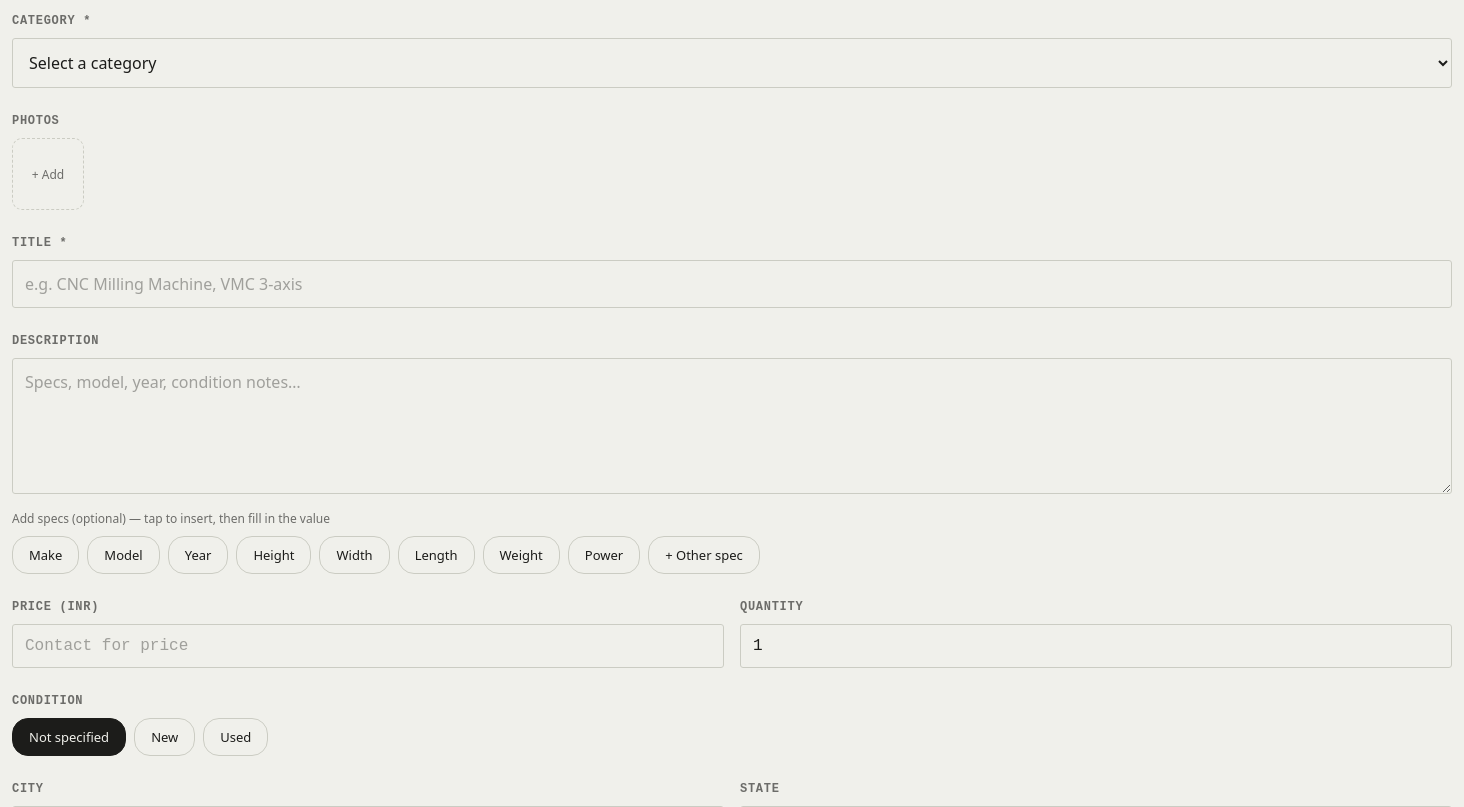
Test: ListingForm › spec suggestions (machinery sell only) › adds a custom spec label via the "+ Other spec" input
Click the button "+ Other spec". click: (704, 555)
box: top-left (648, 536), bottom-right (760, 574)
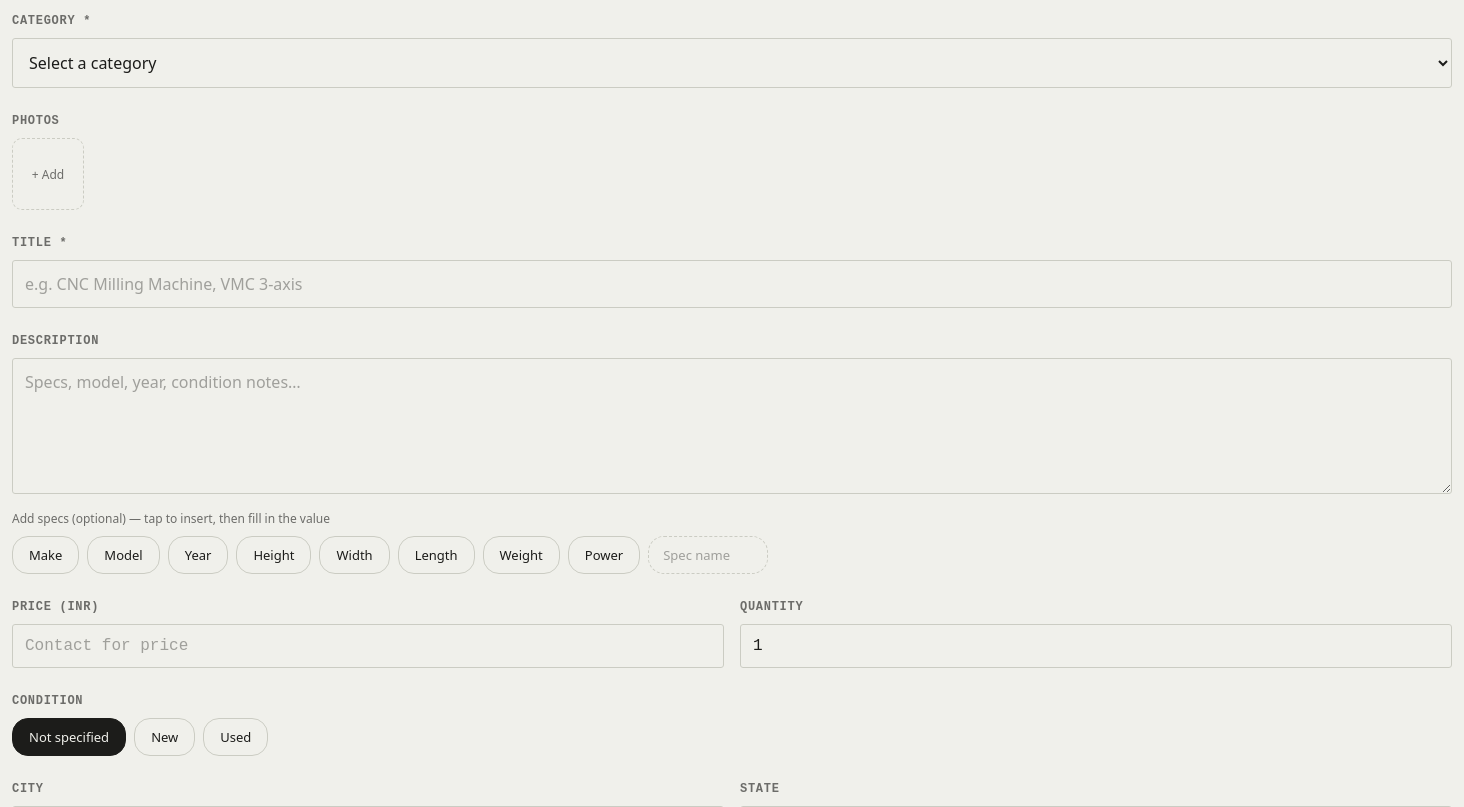
Type "Voltage" into the field with placeholder "Spec name". click: (708, 555)
box: top-left (648, 536), bottom-right (768, 574)
Then press Enter
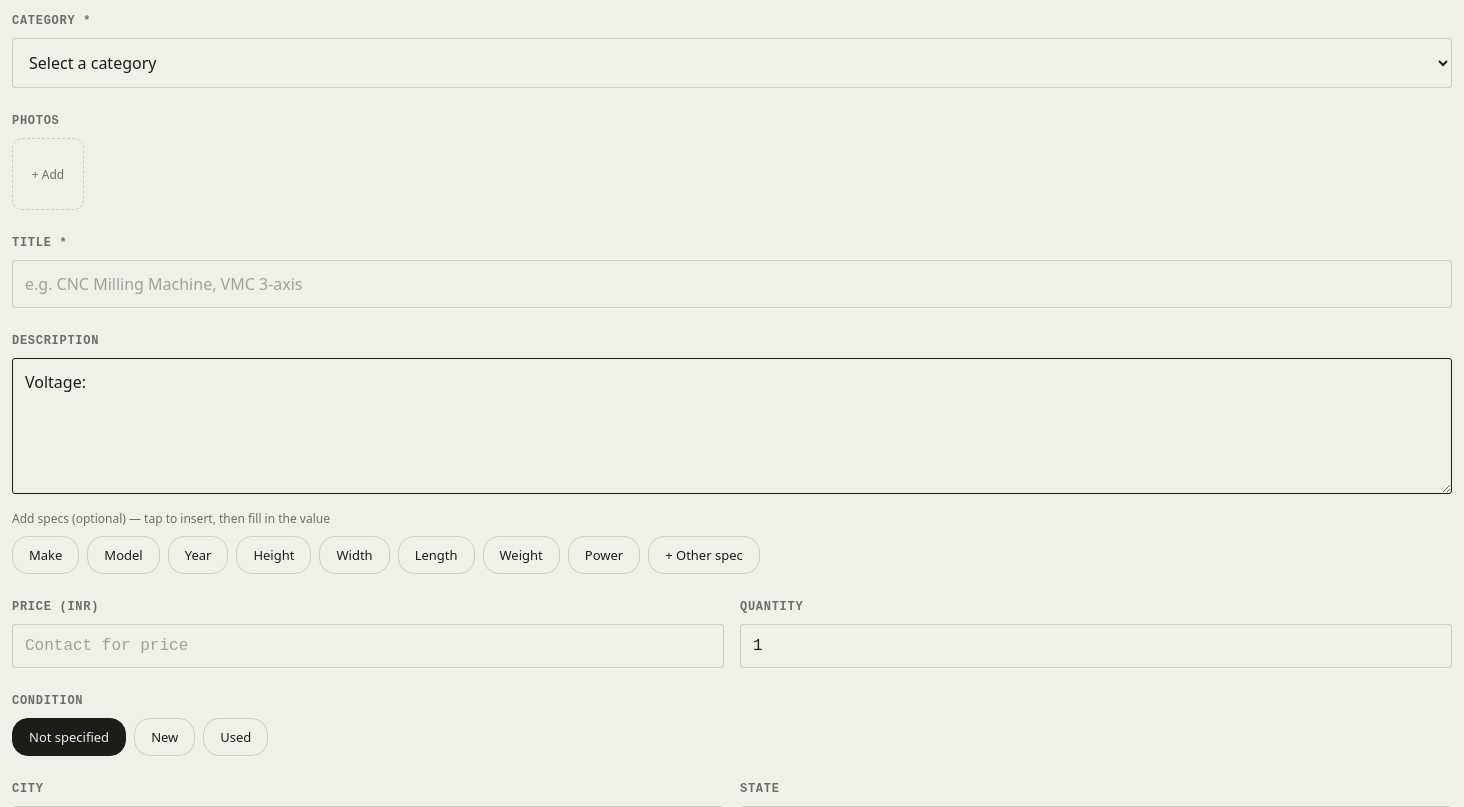
Expected: the text box labelled "Description" holds "Voltage: ", top-left (12, 358), bottom-right (1452, 494)
